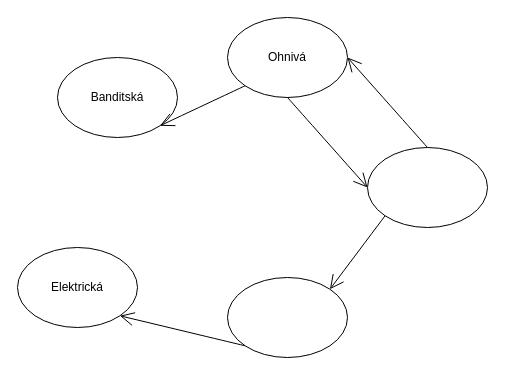
The diagram is 505 pixels wide and 375 high, and some of its shapes have lost their labels. Each missing label, with the centre of its shape:
Jedová: pixel 427 187
Vodní: pixel 287 317
